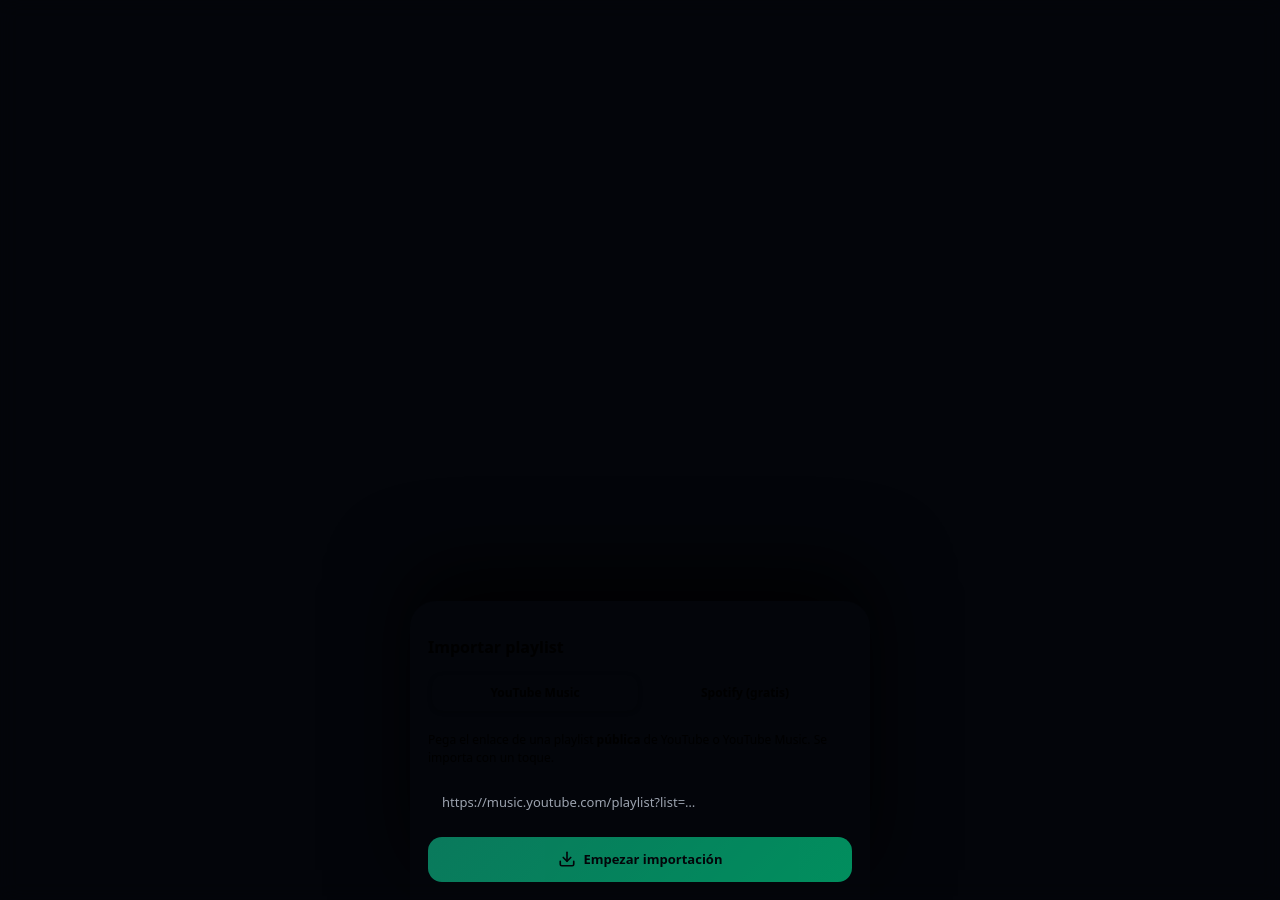
ImportPlaylistModal › un enlace de Spotify NO se importa por URL: cambia al modo Spotify
Type "https://open.spotify.com/playlist/abc123" into the field with placeholder "https://music.youtube.com/playlist?list=…" at (640, 803), box left=428, top=781, right=852, bottom=824
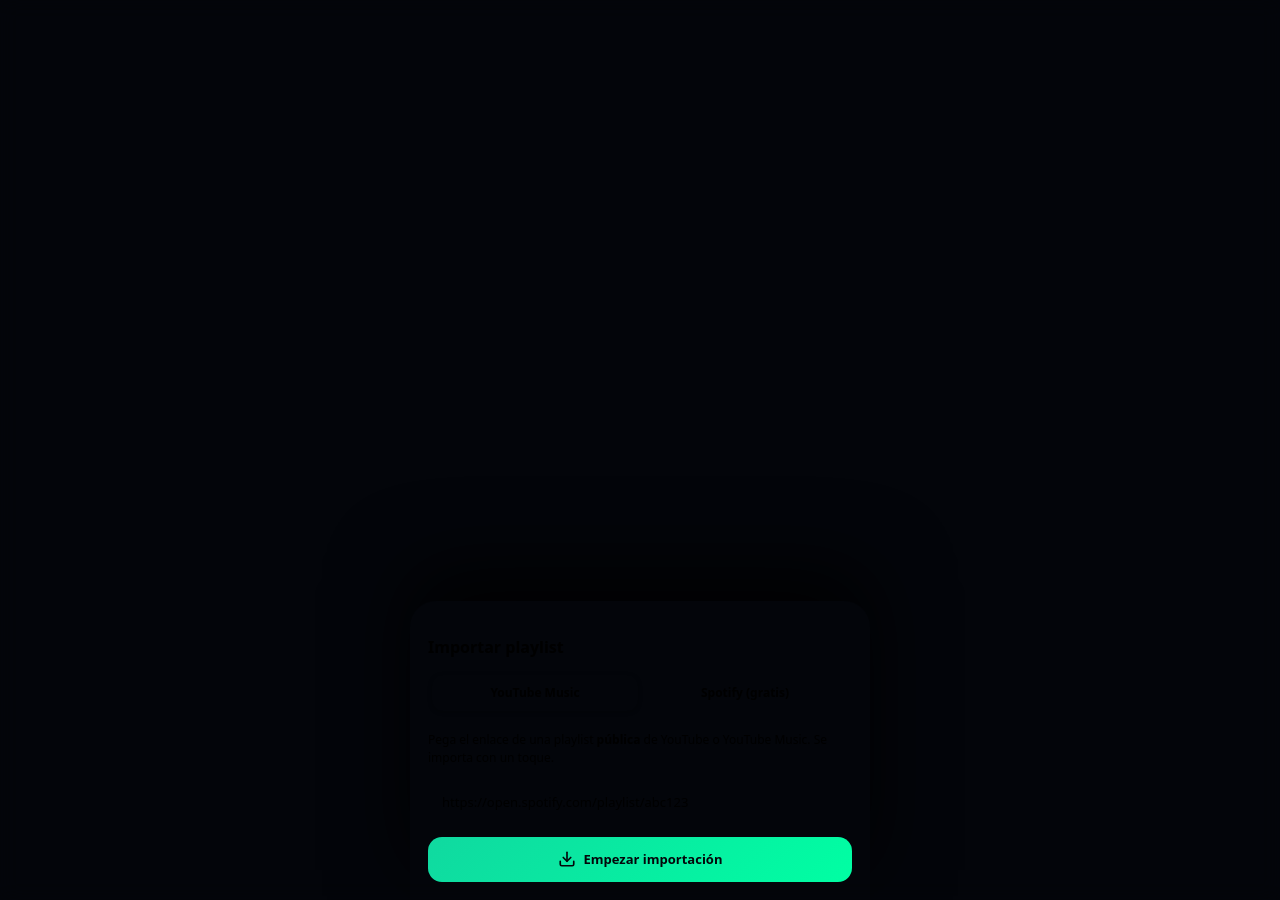
Submit the form, box left=428, top=781, right=852, bottom=882
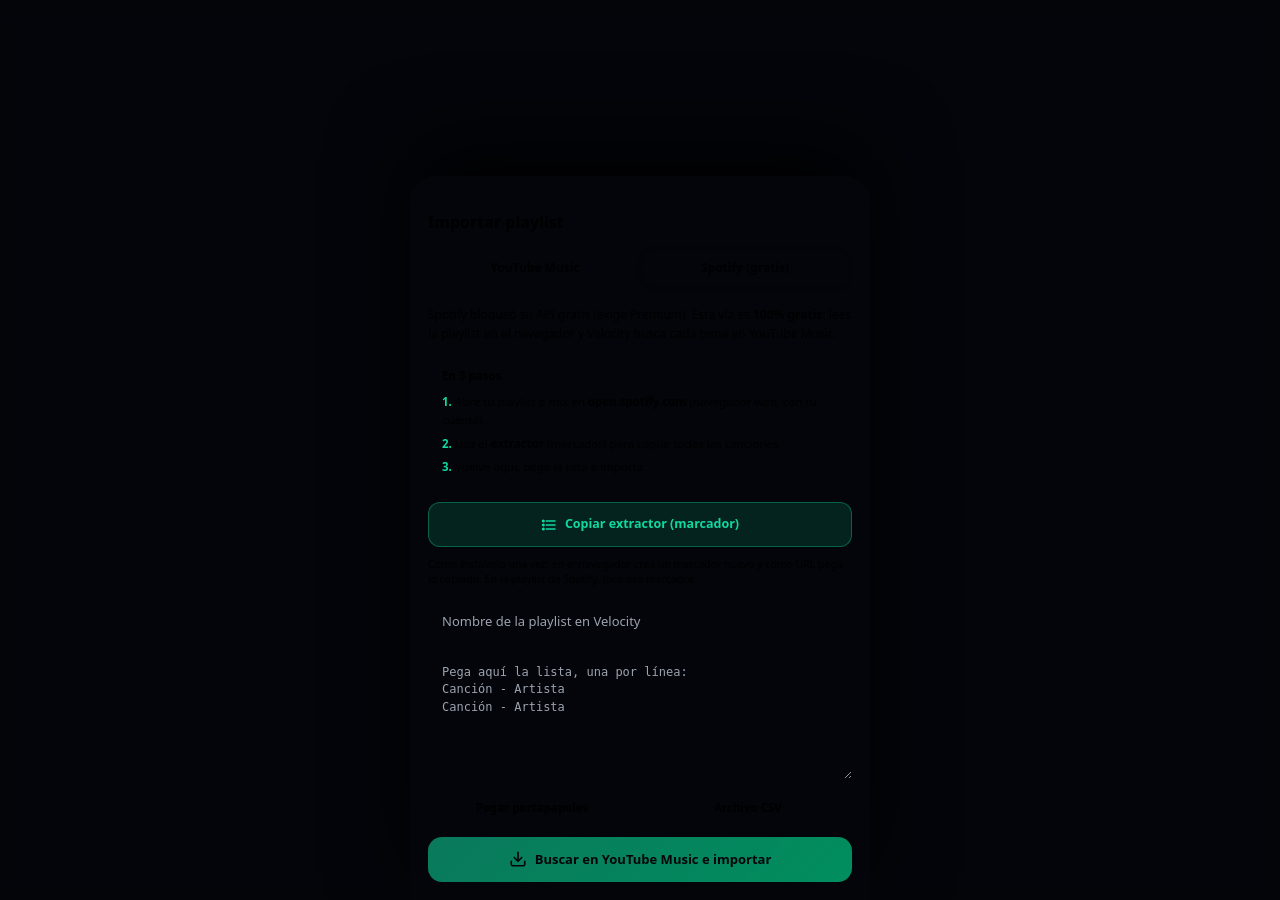
Now the text box is shown, box left=428, top=653, right=852, bottom=779
